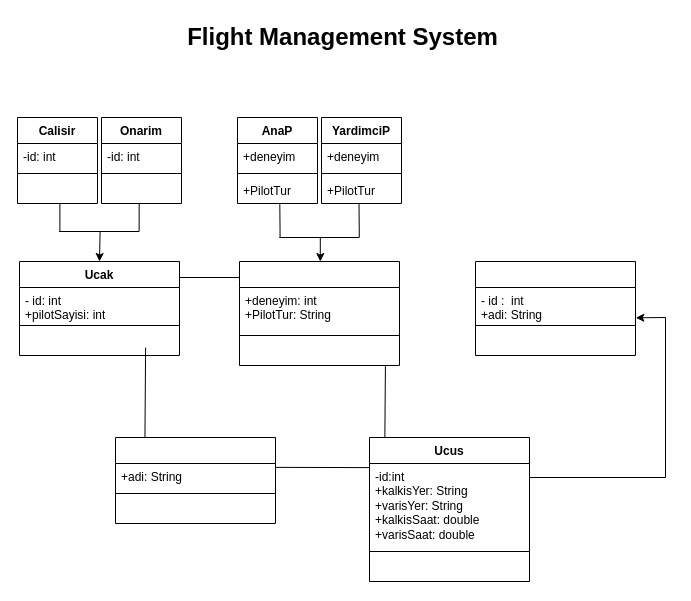
This 691x601 diagram has some shape labels left out. Each missing label, with the box of its shape:
Havaalani: (474, 260, 636, 356)
HavaYoluSirketi: (114, 436, 276, 524)
Pilotlar: (238, 260, 400, 366)
